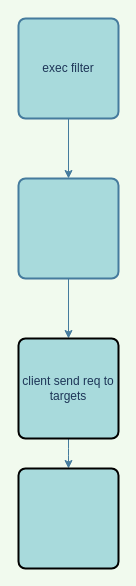
Image size: 136x586. Some labels were removed from this diagram. The centre of each missing label's shape, as x and y in pixels:
http NewRequest: the point at 68,228
response exec response filter: the point at 68,518
